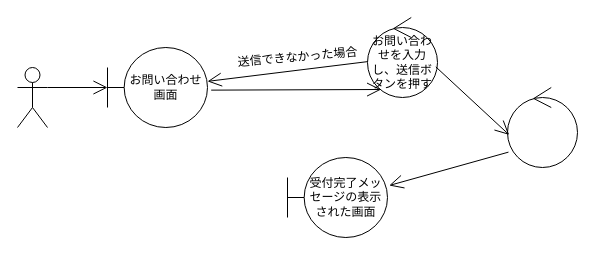
The diagram is 595 pixels wide and 255 high, and some of its shapes have lost their labels. Each missing label, with the centre of its shape:
システムにお問い合わせを登録: the point at 542,127
顧客: the point at 32,97
